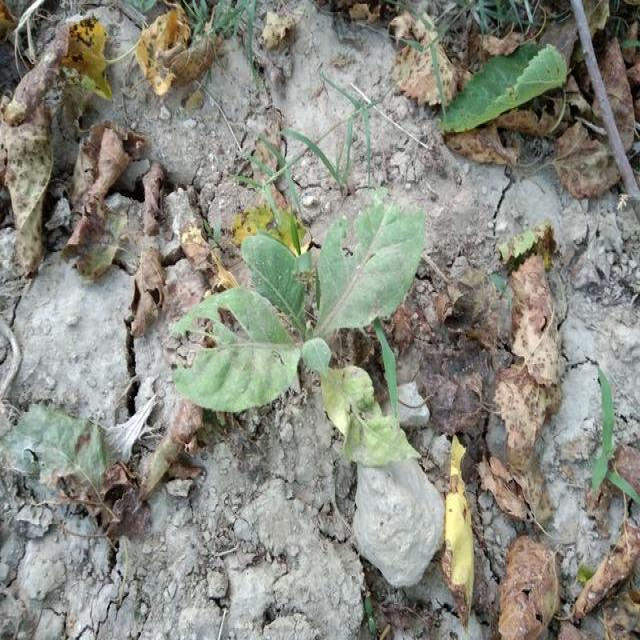crop: (168, 196, 432, 464)
